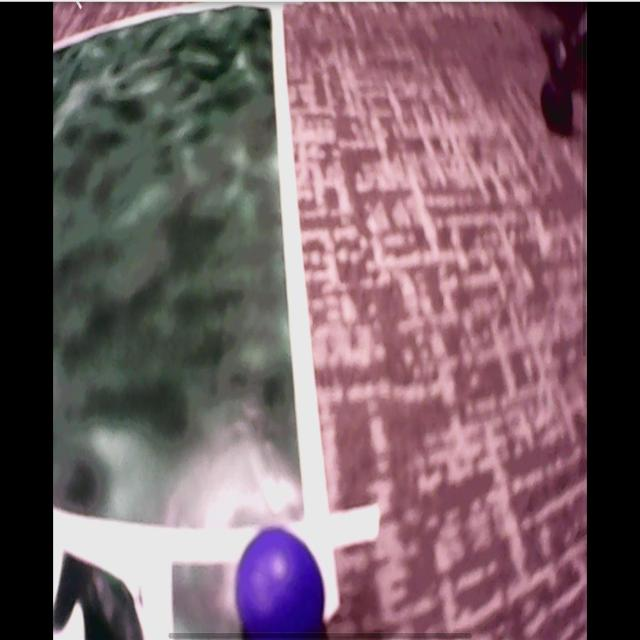ball: (235, 526, 324, 638)
